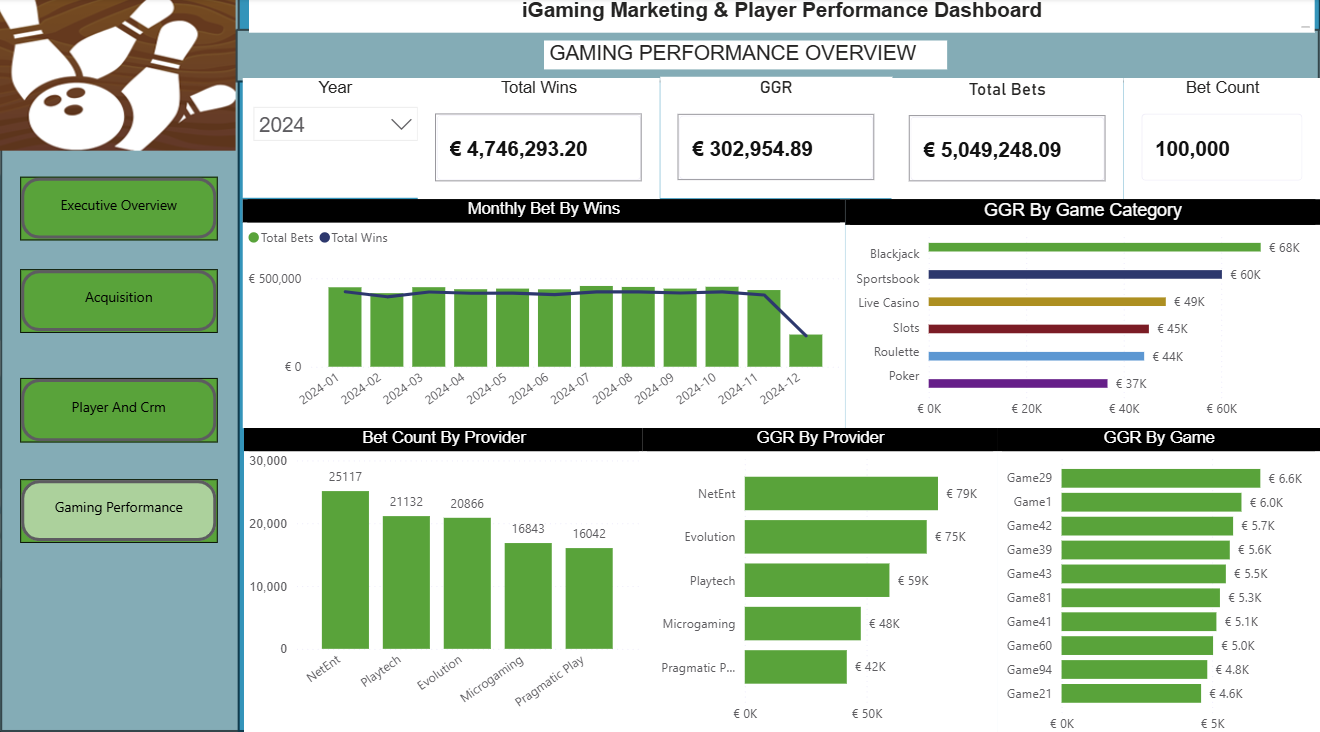

The dashboard page shown, as its layout file describes it:
{"tool":"powerbi","page":{"name":"Gaming Performance","canvas":[1280,720],"ordinal":4},"visuals":[{"type":"actionButton","title":"Executive Overview","box":[20,173.6,191.1,61.2],"z":0},{"type":"actionButton","title":"Executive Overview","box":[20,262.3,191.1,61.2],"z":1000},{"type":"actionButton","title":"Executive Overview","box":[20,368.5,191.1,62.5],"z":2000},{"type":"actionButton","title":"Executive Overview","box":[20,465.9,191.1,61.2],"z":3000},{"type":"slicer","title":"Year","fields":{"Values":["DateTable.Year"]},"box":[236.1,77,179.3,116.2],"z":4000},{"type":"cardVisual","title":"GGR","fields":{"Data":["Executive KPI Measure.GGR"]},"box":[640.1,76.1,224.6,117.3],"z":5000},{"type":"cardVisual","title":"Total Bets","fields":{"Data":["Executive KPI Measure.Total Bets"]},"box":[864.7,77.4,224.6,117.3],"z":6000},{"type":"cardVisual","title":"Total Wins","fields":{"Data":["Executive KPI Measure.Total Wins"]},"box":[405.5,77.4,234.6,117.3],"z":7000},{"type":"cardVisual","title":"Bet Count","fields":{"Data":["Gaming Performance.Bet Count"]},"box":[1089.3,77.4,190.9,117.3],"z":8000},{"type":"lineClusteredColumnComboChart","title":"          Monthly Bet By Wins                      ","fields":{"Category":["DateTable.YearMonth"],"Y":["Executive KPI Measure.Total Bets"],"Y2":["Executive KPI Measure.Total Wins"]},"box":[236.6,194.8,583.2,221.4],"z":9000},{"type":"clusteredBarChart","title":"GGR By Game Category","fields":{"Category":["GameCategory.CategoryName"],"Series":["GameCategory.CategoryName"],"Y":["Player and CRM.Total GGR"]},"box":[819.8,194.8,460.5,221.4],"z":10000},{"type":"clusteredColumnChart","title":"Bet Count By Provider","fields":{"Category":["GameProvider.ProviderName"],"Y":["Gaming Performance.Bet Count"]},"box":[236.8,416.6,387.5,295.1],"z":11000},{"type":"barChart","title":"GGR By Game","fields":{"Category":["Game.GameName"],"Y":["Player and CRM.Total GGR"]},"box":[967.8,416.2,312.5,304.9],"z":12000},{"type":"clusteredBarChart","title":" GGR By Provider","fields":{"Category":["GameProvider.ProviderName"],"Y":["Player and CRM.Total GGR"]},"box":[623.7,416.2,344.1,294.8],"z":13000},{"type":"textbox","title":"GAMING PERFORMANCE OVERVIEW","box":[528,41.4,390.6,28.1],"z":14000},{"type":"textbox","title":"iGaming Marketing & Player Performance Dashboard","box":[241.7,0,1032,33.9],"z":15000}]}

Visuals, with their boxes in screenshot pixels (x1, y1, x2, y2), scaled from the page's 1280x720 canvas onto the 1320x732 screenshot:
"Executive Overview" actionButton: BBox(21, 176, 218, 239)
"Executive Overview" actionButton: BBox(21, 267, 218, 329)
"Executive Overview" actionButton: BBox(21, 375, 218, 438)
"Executive Overview" actionButton: BBox(21, 474, 218, 536)
"Year" slicer: BBox(243, 78, 428, 196)
"GGR" cardVisual: BBox(660, 77, 892, 197)
"Total Bets" cardVisual: BBox(892, 79, 1123, 198)
"Total Wins" cardVisual: BBox(418, 79, 660, 198)
"Bet Count" cardVisual: BBox(1123, 79, 1319, 198)
"          Monthly Bet By Wins                      " lineClusteredColumnComboChart: BBox(244, 198, 845, 423)
"GGR By Game Category" clusteredBarChart: BBox(845, 198, 1319, 423)
"Bet Count By Provider" clusteredColumnChart: BBox(244, 424, 644, 724)
"GGR By Game" barChart: BBox(998, 423, 1319, 731)
" GGR By Provider" clusteredBarChart: BBox(643, 423, 998, 723)
"GAMING PERFORMANCE OVERVIEW" textbox: BBox(544, 42, 947, 71)
"iGaming Marketing & Player Performance Dashboard" textbox: BBox(249, 0, 1314, 34)
